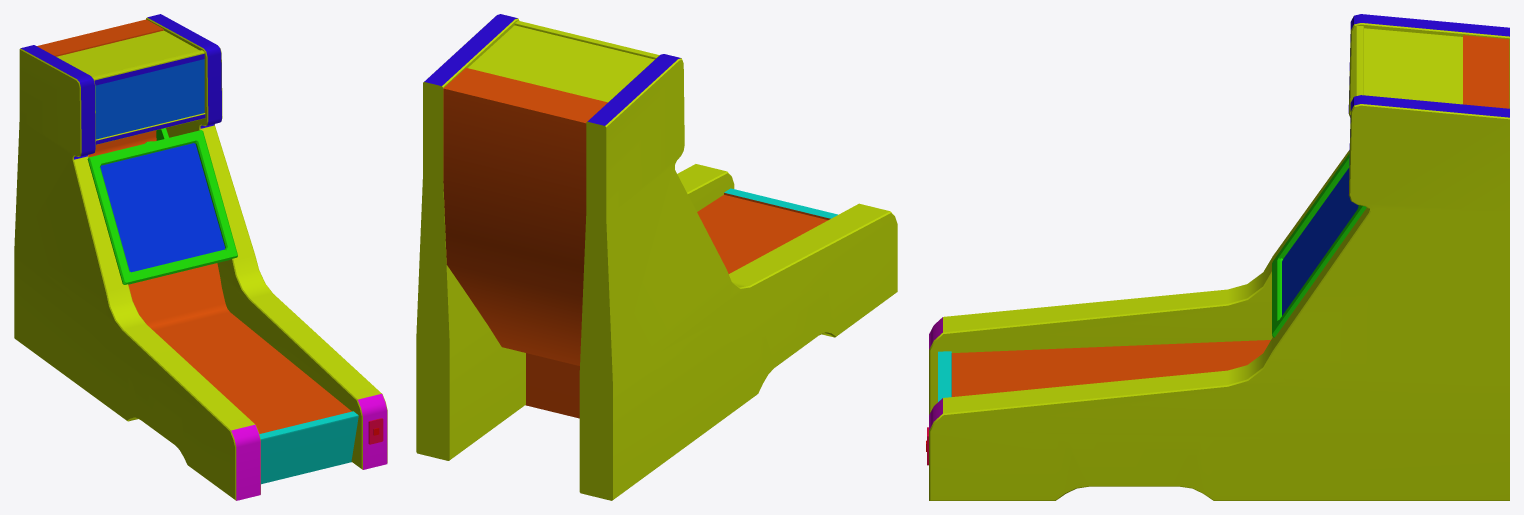
Rendered from SkeeballMachine.fbx.
The picture shows the model from 3 angles, left to right: view 1: azimuth 30°, elevation 25°; view 2: azimuth 150°, elevation 25°; view 3: azimuth 270°, elevation 25°; orthographic projection. The views are drawn at different scales.
Visible parts, largest first — view 1: polySurface5; view 2: polySurface5; view 3: polySurface5.
Boxes of the visible parts, x1=… form: polySurface5: x1=14, y1=14, x2=387, y2=500; polySurface5: x1=416, y1=14, x2=897, y2=500; polySurface5: x1=926, y1=14, x2=1509, y2=500.
Bounding box in the file's own units: 3.48 × 6.54 × 8.79.
